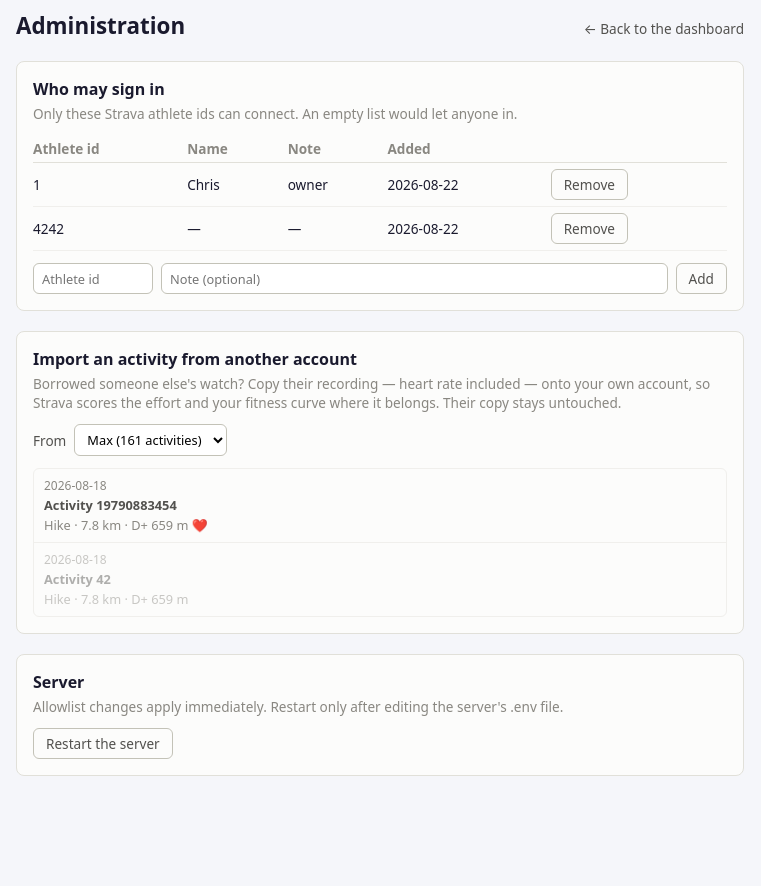
Scenario: AdminPage › activity import › imports the selected activity and links to the result
The width and height of the screenshot is (761, 886).
Click the button "2026-08-18 Activity 19790883454 Hike · 7.8 km · D+ 659 m ❤️" at (75, 486), box [34, 469, 726, 542]
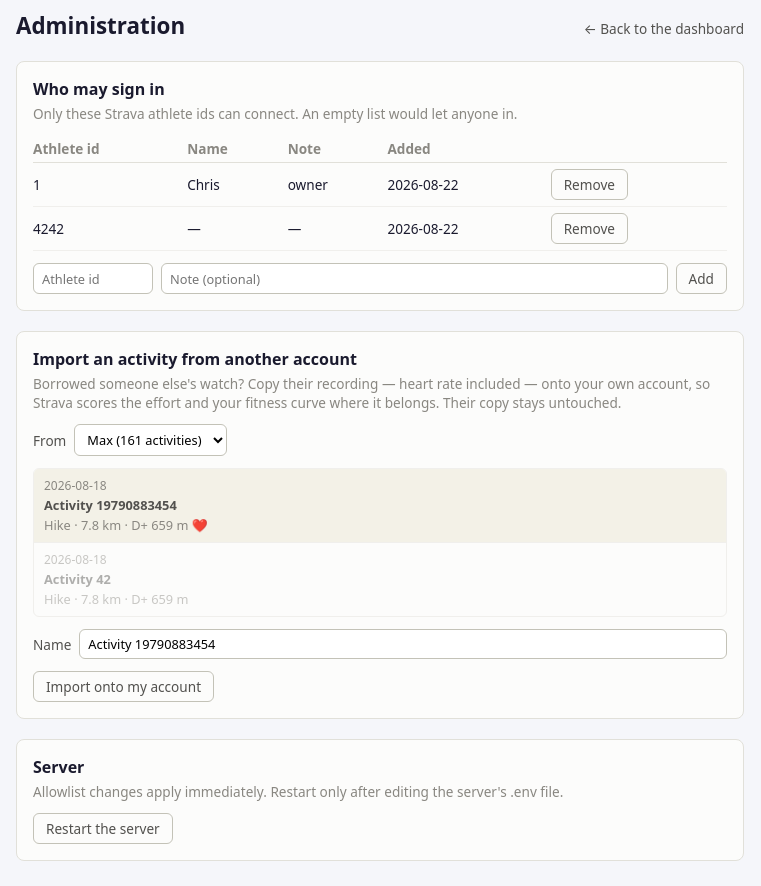
Click the button with class "import" at (124, 686), box [33, 671, 214, 702]
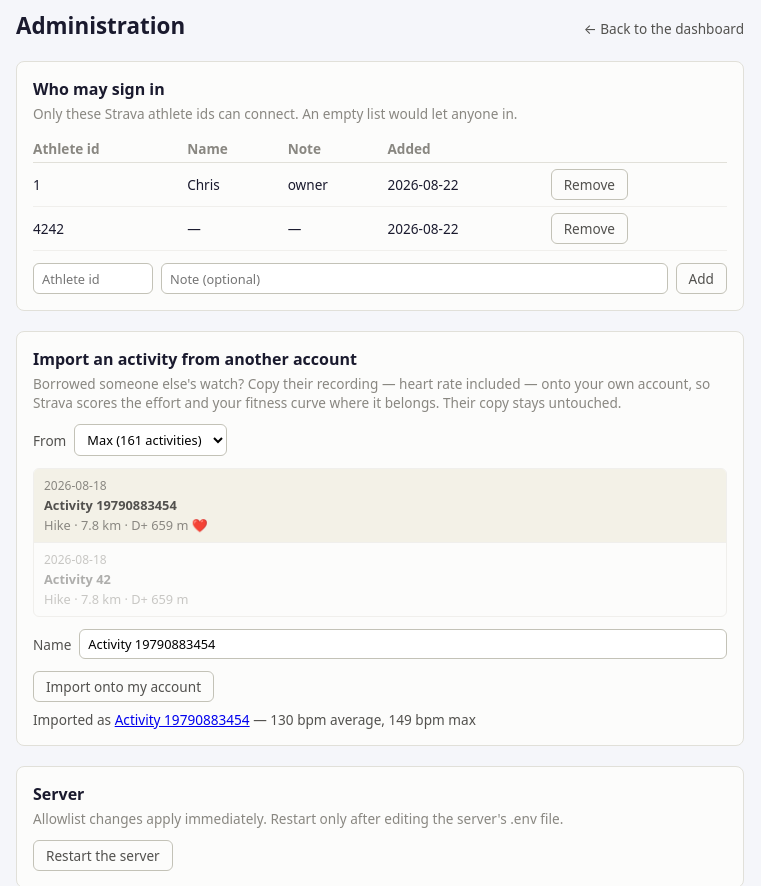
Expected: the element with class "imported" shows "130 bpm average", [250, 710, 476, 729]
